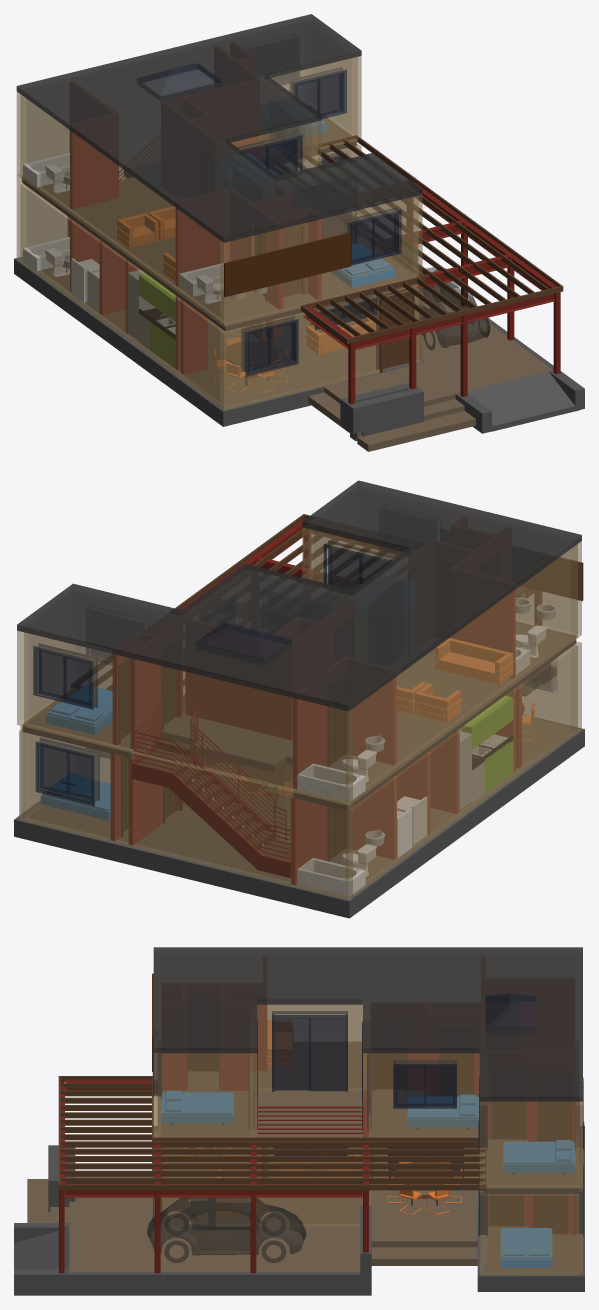
File: simple_house.glb
The picture shows the model from 3 angles, top to bottom: view 1: azimuth 30°, elevation 25°; view 2: azimuth 150°, elevation 25°; view 3: azimuth 270°, elevation 25°; orthographic projection. The views are drawn at different scales.
Parts seen in each view (by area): view 1: Basic Wall Generic - 200mm [206245], Basic Roof Roof 1 [214890], Floor Concrete Slab - 200mm [207872], Basic Wall Interior - 123mm Partition (1-hr) [206602]_interi, Basic Wall Retaining - 300mm Concrete [208939]_concrete fdtn, Rectangular Mullion 50 x 150mm [210990]_truss material wood_, M_Sliding with Trim 1830 x 1220mm [207846], M_W-Wide Flange W310X38.7 [211088]_truss beam material- stee, Basic Wall 50mm [213770], M_Chair-Breuer M_Chair-Breuer [209975], M_Toilet-Domestic-3D M_Toilet-Domestic-3D [207600], Ramp Ramp 1 [208786] (+13 smaller); view 2: Basic Wall Generic - 200mm [206245], Basic Roof Roof 1 [214890], Basic Wall Interior - 123mm Partition (1-hr) [206602]_interi, Floor Concrete Slab - 200mm [207872], Basic Wall Retaining - 300mm Concrete [208939]_concrete fdtn, M_Sliding with Trim 1830 x 1220mm [207846], M_Toilet-Domestic-3D M_Toilet-Domestic-3D [207600], M_Chair-Breuer M_Chair-Breuer [209975], M_Bifold-2 Panel 0762 x 2032mm [206987]_truss material wood_, Railing 900mm Pipe [206947], M_Bed-Box 1346 x 1880mm - Double [210046], Stringer Stringer - 50 mm Width [206807]_truss beam material (+13 smaller); view 3: Floor Concrete Slab - 200mm [207872], Basic Roof Roof 1 [214890], Basic Wall Generic - 200mm [206245], Rectangular Mullion 50 x 150mm [210990]_truss material wood_, Basic Wall Retaining - 300mm Concrete [208939]_concrete fdtn, M_Bifold-2 Panel 0762 x 2032mm [206987]_truss material wood_, M_Bed-Box 1346 x 1880mm - Double [210046], M_Sliding-2 Panel 1830 x 2134mm [210261], PROP, Basic Wall Interior - 123mm Partition (1-hr) [206602]_interi, M_Sliding with Trim 1830 x 1220mm [207846], M_W-Wide Flange W310X38.7 [211088]_truss beam material- stee (+5 smaller).
Part boxes in pixels (<box>): Basic Wall Generic - 200mm [206245]: <box>16,56,422,410</box>; Basic Roof Roof 1 [214890]: <box>16,14,422,242</box>; Floor Concrete Slab - 200mm [207872]: <box>21,118,552,451</box>; Basic Wall Interior - 123mm Partition (1-hr) [206602]_interi: <box>68,81,321,374</box>; Basic Wall Retaining - 300mm Concrete [208939]_concrete fdtn: <box>14,245,584,440</box>; Rectangular Mullion 50 x 150mm [210990]_truss material wood_: <box>298,135,563,343</box>; M_Sliding with Trim 1830 x 1220mm [207846]: <box>241,67,401,376</box>; M_W-Wide Flange W310X38.7 [211088]_truss beam material- stee: <box>303,182,557,349</box>; Basic Wall 50mm [213770]: <box>224,232,351,297</box>; M_Chair-Breuer M_Chair-Breuer [209975]: <box>116,206,375,392</box>; M_Toilet-Domestic-3D M_Toilet-Domestic-3D [207600]: <box>23,153,223,303</box>; Ramp Ramp 1 [208786]: <box>467,371,580,431</box>; Basic Wall Generic - 200mm [206245]: <box>17,527,581,900</box>; Basic Roof Roof 1 [214890]: <box>17,480,581,711</box>; Basic Wall Interior - 123mm Partition (1-hr) [206602]_interi: <box>110,589,521,885</box>; Floor Concrete Slab - 200mm [207872]: <box>22,621,576,897</box>; Basic Wall Retaining - 300mm Concrete [208939]_concrete fdtn: <box>14,688,584,918</box>; M_Sliding with Trim 1830 x 1220mm [207846]: <box>33,546,556,806</box>; M_Toilet-Domestic-3D M_Toilet-Domestic-3D [207600]: <box>297,625,546,896</box>; M_Chair-Breuer M_Chair-Breuer [209975]: <box>230,638,534,812</box>; M_Bifold-2 Panel 0762 x 2032mm [206987]_truss material wood_: <box>118,658,346,861</box>; Railing 900mm Pipe [206947]: <box>133,697,290,859</box>; M_Bed-Box 1346 x 1880mm - Double [210046]: <box>40,685,112,820</box>; Stringer Stringer - 50 mm Width [206807]_truss beam material: <box>131,730,291,877</box>; Floor Concrete Slab - 200mm [207872]: <box>27,1041,579,1273</box>; Basic Roof Roof 1 [214890]: <box>153,947,582,1101</box>; Basic Wall Generic - 200mm [206245]: <box>153,1004,582,1275</box>; Rectangular Mullion 50 x 150mm [210990]_truss material wood_: <box>58,1076,486,1190</box>; Basic Wall Retaining - 300mm Concrete [208939]_concrete fdtn: <box>14,1125,584,1295</box>; M_Bifold-2 Panel 0762 x 2032mm [206987]_truss material wood_: <box>187,1002,572,1234</box>; M_Bed-Box 1346 x 1880mm - Double [210046]: <box>161,1090,575,1267</box>; M_Sliding-2 Panel 1830 x 2134mm [210261]: <box>249,1011,463,1177</box>; PROP: <box>147,1197,306,1262</box>; Basic Wall Interior - 123mm Partition (1-hr) [206602]_interi: <box>162,1002,578,1234</box>; M_Sliding with Trim 1830 x 1220mm [207846]: <box>152,1025,584,1237</box>; M_W-Wide Flange W310X38.7 [211088]_truss beam material- stee: <box>58,1080,369,1197</box>.
Size of the model in its own units: 930 by 616 by 1490.
